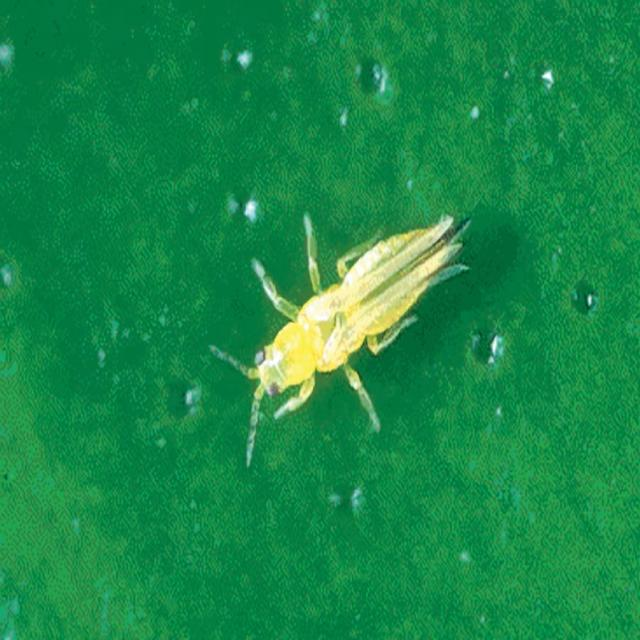Thrip-Adult-: (189, 186, 490, 463)
